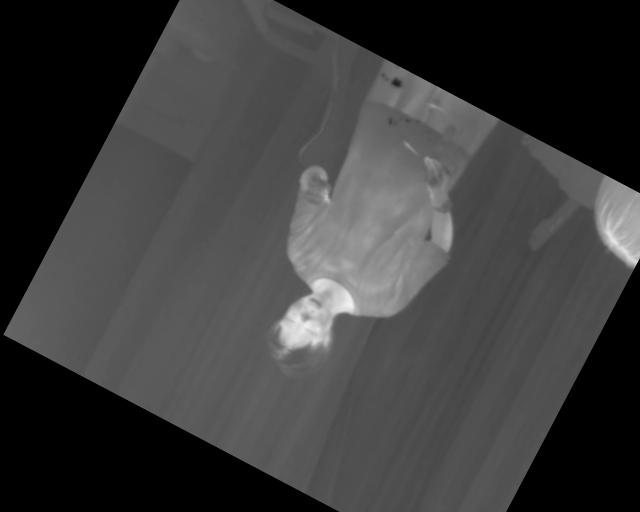face: (255, 276, 353, 385)
